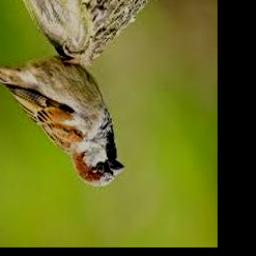Sparrow: (0, 42, 125, 188)
